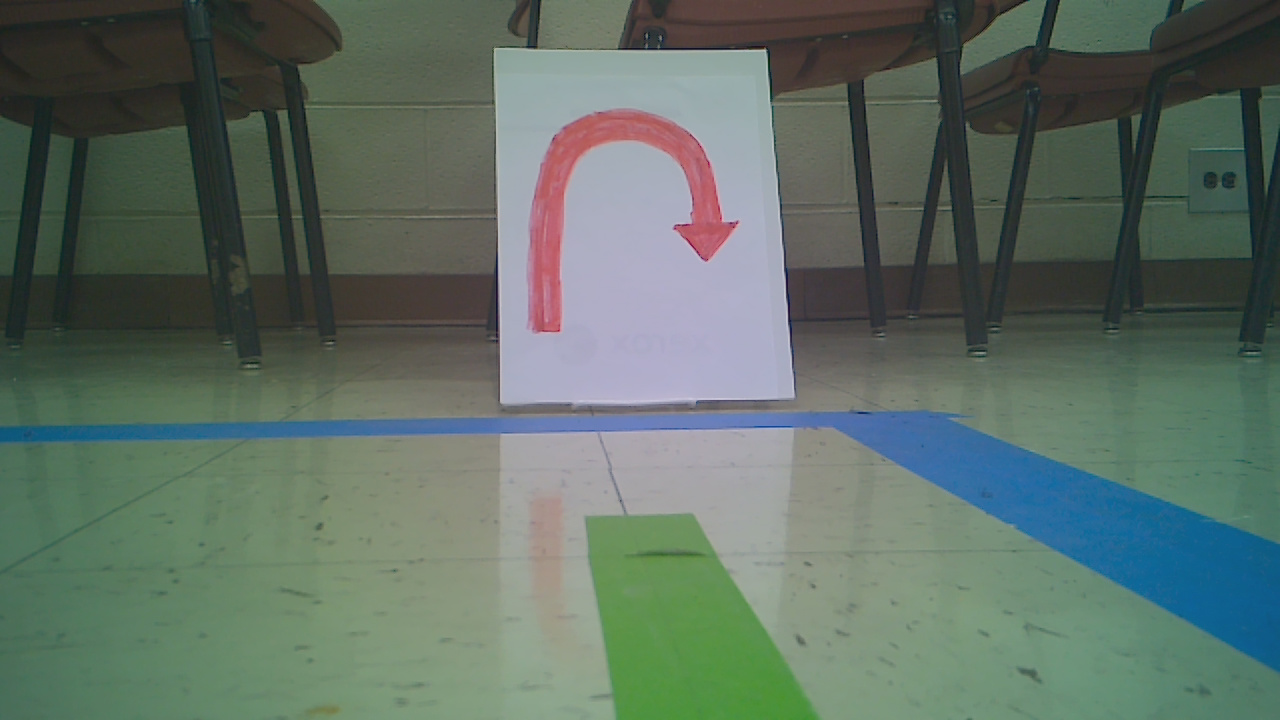greenline: (577, 513, 820, 720)
uturn: (524, 107, 737, 339)
